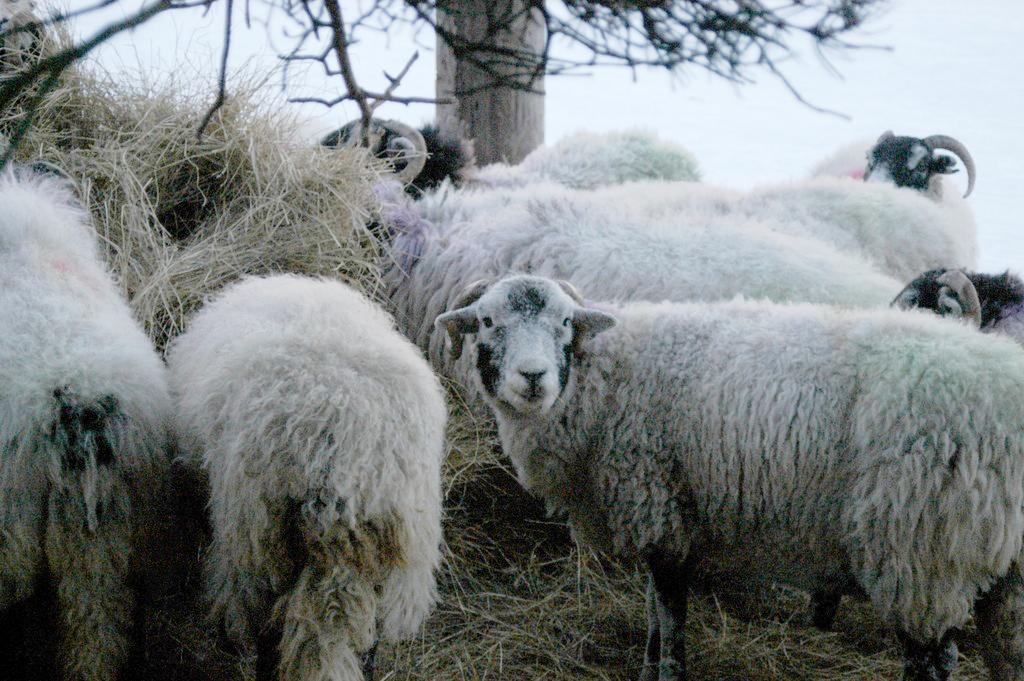Sheep: (450, 282, 1010, 620), (183, 277, 446, 660), (0, 164, 175, 588), (462, 189, 967, 301), (351, 119, 711, 204), (806, 130, 980, 269)
